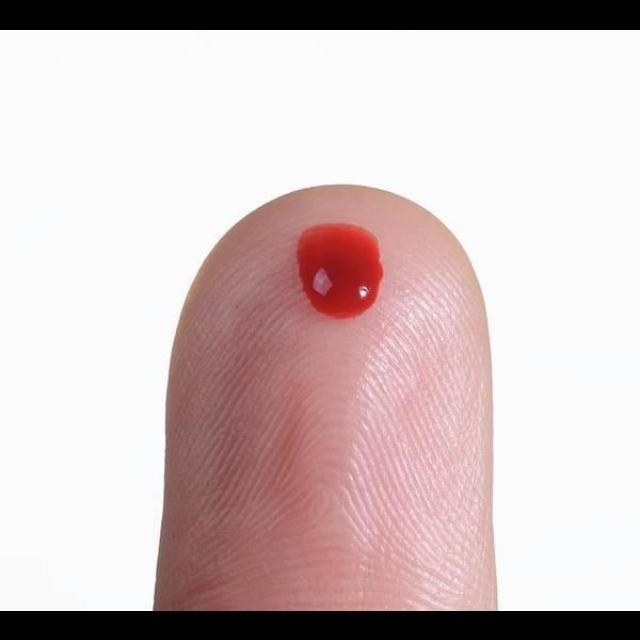blood: (298, 223, 384, 318)
